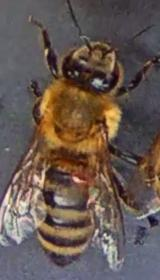varroa_mite: (64, 161, 98, 184)
